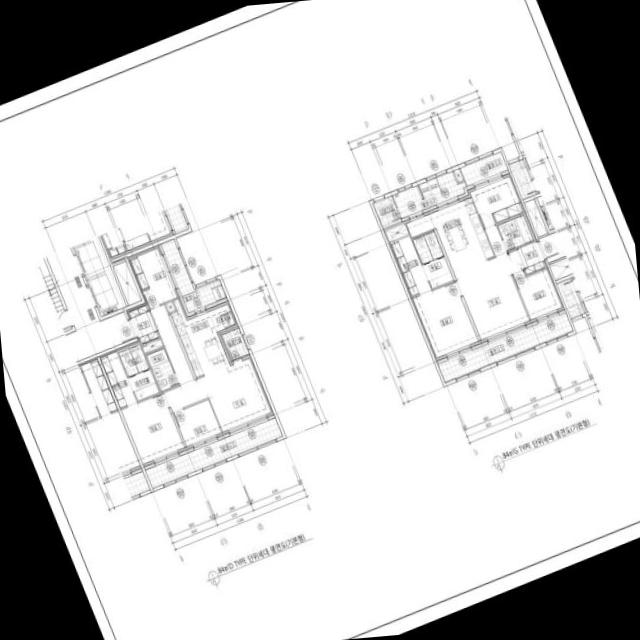background: (0, 0, 640, 640)
space_balconi: (144, 417, 282, 487), (437, 312, 572, 382), (160, 238, 226, 312), (392, 170, 465, 217), (459, 151, 507, 185)
space_bedroom: (411, 281, 479, 360), (120, 392, 184, 466), (127, 244, 178, 307), (467, 172, 522, 227), (512, 268, 563, 322), (173, 399, 222, 448)
space_dressroom: (390, 235, 431, 296), (99, 349, 137, 407), (126, 368, 158, 400)
space_elevator: (86, 269, 125, 316), (72, 236, 111, 280), (536, 195, 554, 229)
space_elevator_hall: (46, 247, 134, 361), (538, 231, 565, 262)
space_front: (126, 302, 159, 343), (516, 240, 544, 273)
space_kitchen: (404, 194, 493, 273), (170, 297, 231, 376)
space_living_room: (149, 304, 273, 433), (454, 224, 530, 341)
space_multipurpose_space: (207, 300, 237, 333)
space_other: (112, 260, 141, 304), (523, 198, 547, 236), (549, 257, 572, 279), (383, 221, 408, 241), (141, 338, 162, 352), (165, 300, 175, 312)
space_outdoor_room: (372, 195, 401, 227), (221, 327, 249, 359)
space_staircase: (35, 258, 71, 331)
space_toilet: (412, 230, 453, 287), (145, 347, 178, 391), (497, 214, 532, 249), (118, 348, 138, 376), (129, 343, 148, 371)
